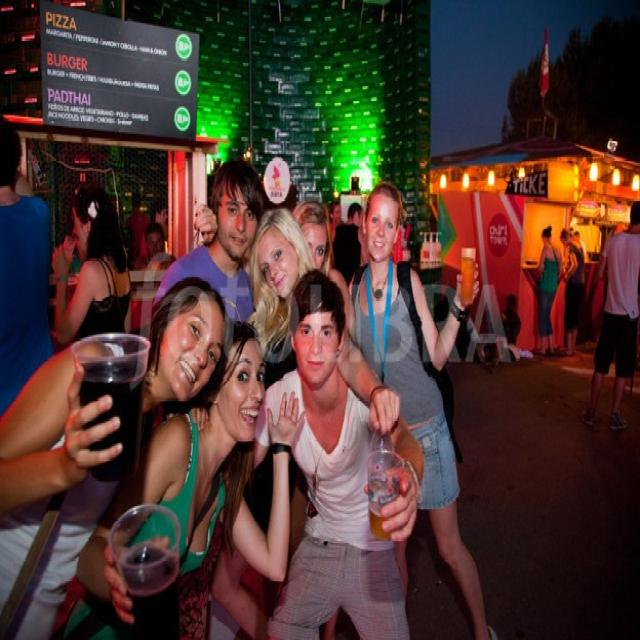body: (0, 272, 231, 640), (70, 316, 308, 638), (346, 180, 501, 640), (251, 266, 427, 640), (241, 202, 403, 443), (52, 178, 134, 564), (153, 154, 270, 328), (0, 113, 54, 415), (580, 197, 639, 428), (532, 223, 564, 362), (290, 195, 336, 278), (120, 176, 166, 250), (559, 228, 585, 357), (331, 200, 366, 288), (321, 184, 343, 218), (568, 216, 585, 244)
